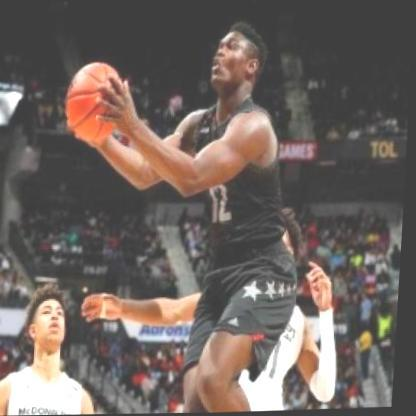basketball: (62, 61, 131, 144)
